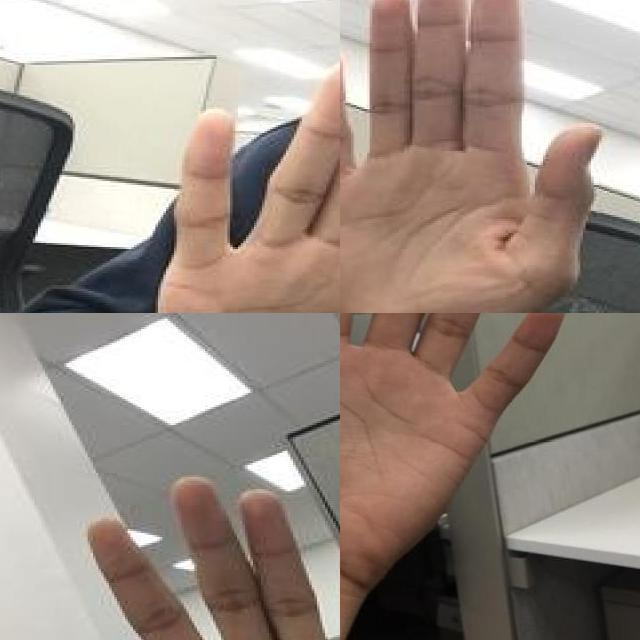hand: (340, 0, 608, 313), (340, 313, 571, 577), (131, 39, 340, 313), (21, 475, 340, 640)
